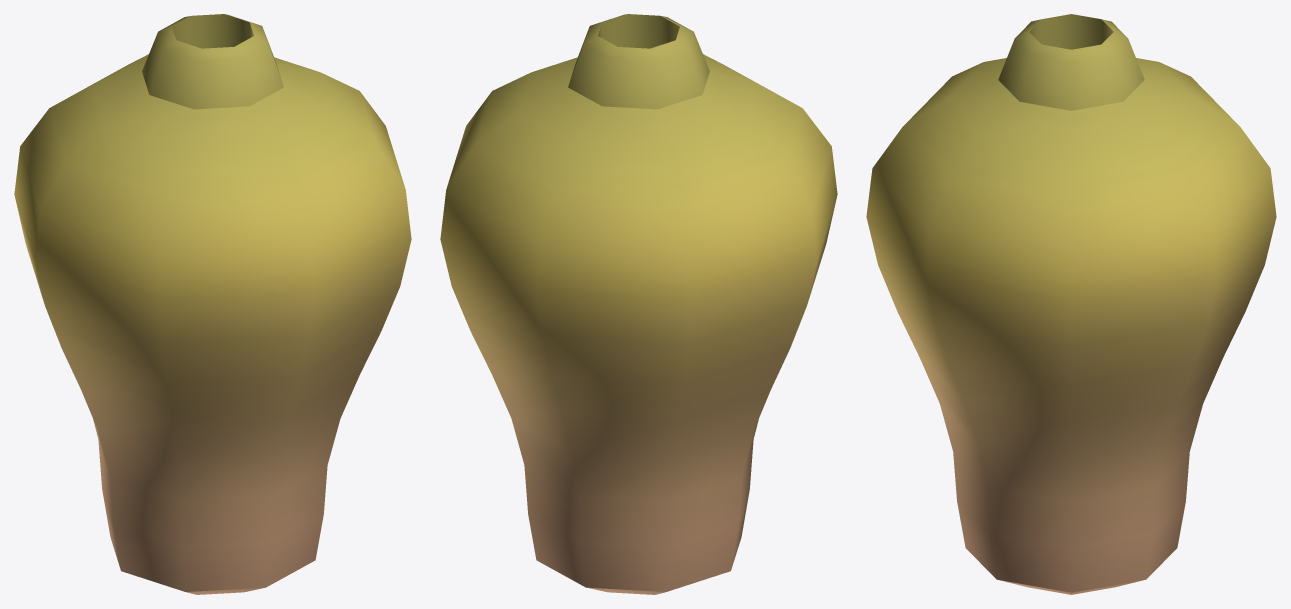
File: Vase_Curved_Yellow.fbx
3 renders of one model, left to right at view 1: azimuth 30°, elevation 25°; view 2: azimuth 150°, elevation 25°; view 3: azimuth 270°, elevation 25°, orthographic.
Visible parts, largest first — view 1: Vase_Curved_Yellow; view 2: Vase_Curved_Yellow; view 3: Vase_Curved_Yellow.
Part boxes in pixels (<box>): Vase_Curved_Yellow: <box>14,14,411,594</box>; Vase_Curved_Yellow: <box>440,14,837,594</box>; Vase_Curved_Yellow: <box>866,14,1276,594</box>.
Bounding box in the file's own units: 19.61 × 28.57 × 19.61.
